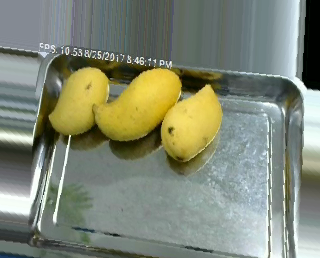Mango: (90, 68, 182, 144), (159, 81, 224, 165), (48, 60, 109, 141)
